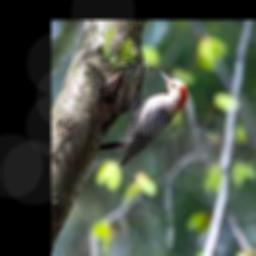Woodpecker: (97, 69, 186, 166)
